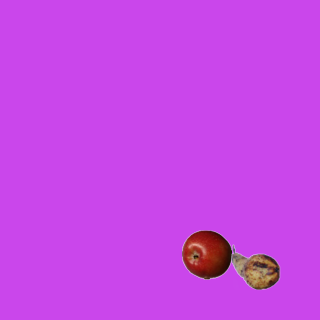Apple Braeburn: (181, 229, 231, 279)
Pear Abate: (230, 242, 280, 292)
